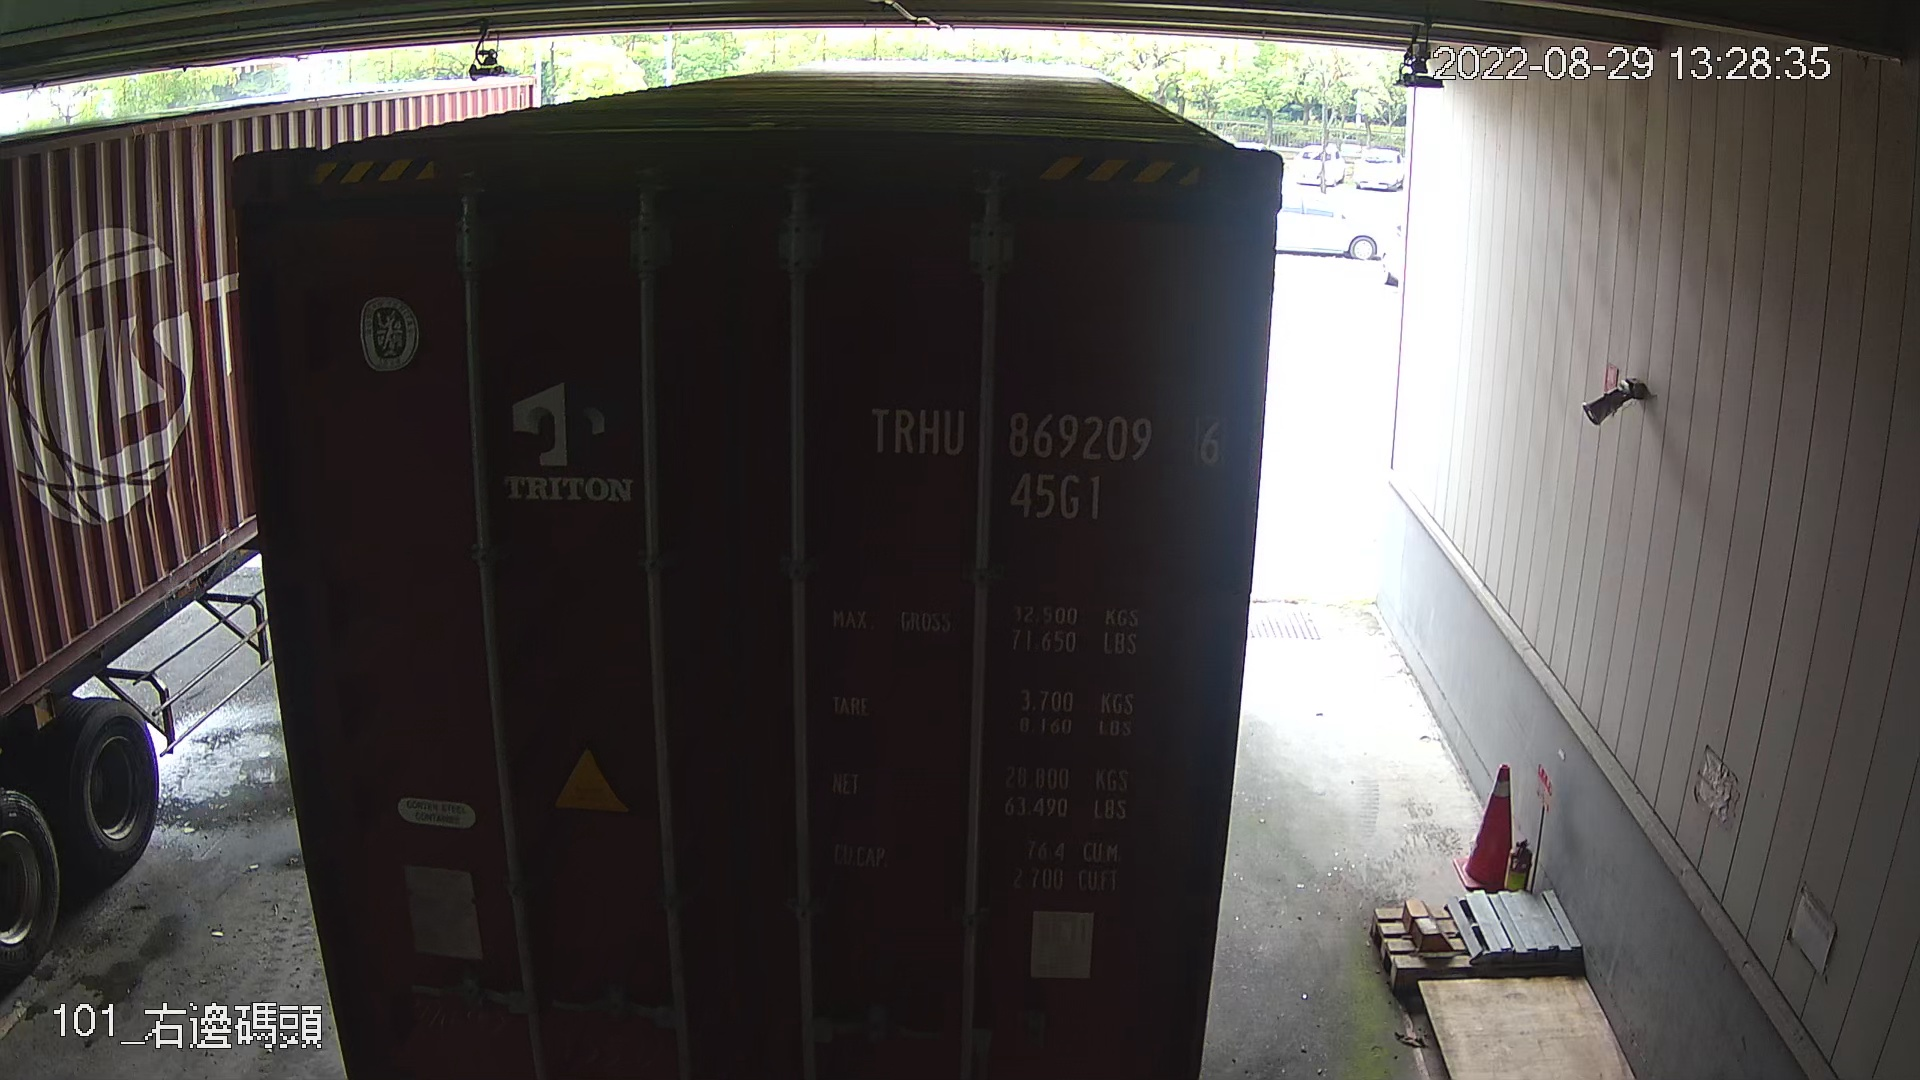container: (853, 381, 1238, 530)
